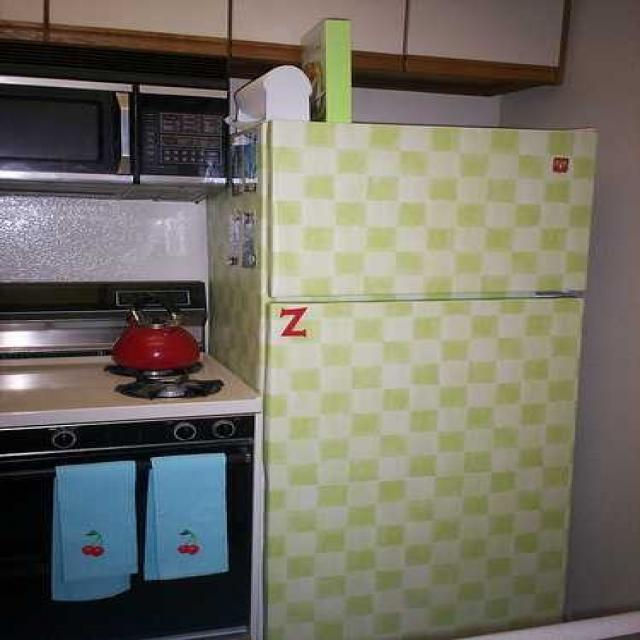refrigerator: (262, 117, 595, 640)
